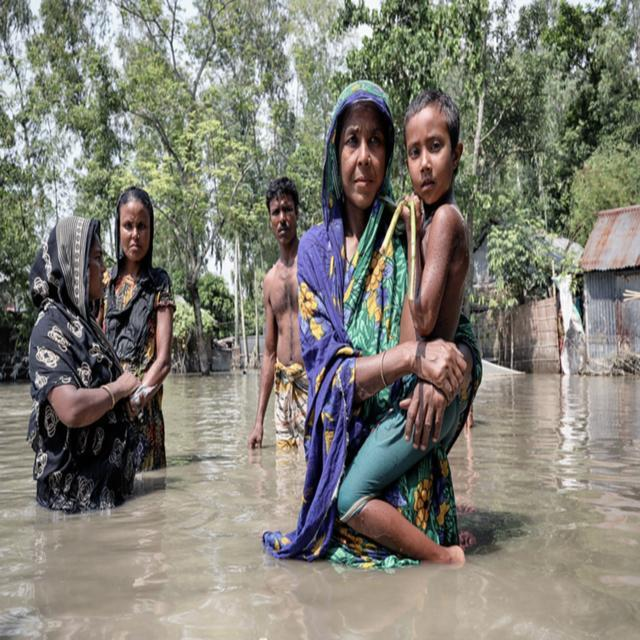Person-RiskLevel2: (301, 83, 482, 577), (14, 208, 138, 539), (82, 179, 180, 482), (240, 173, 330, 448)
